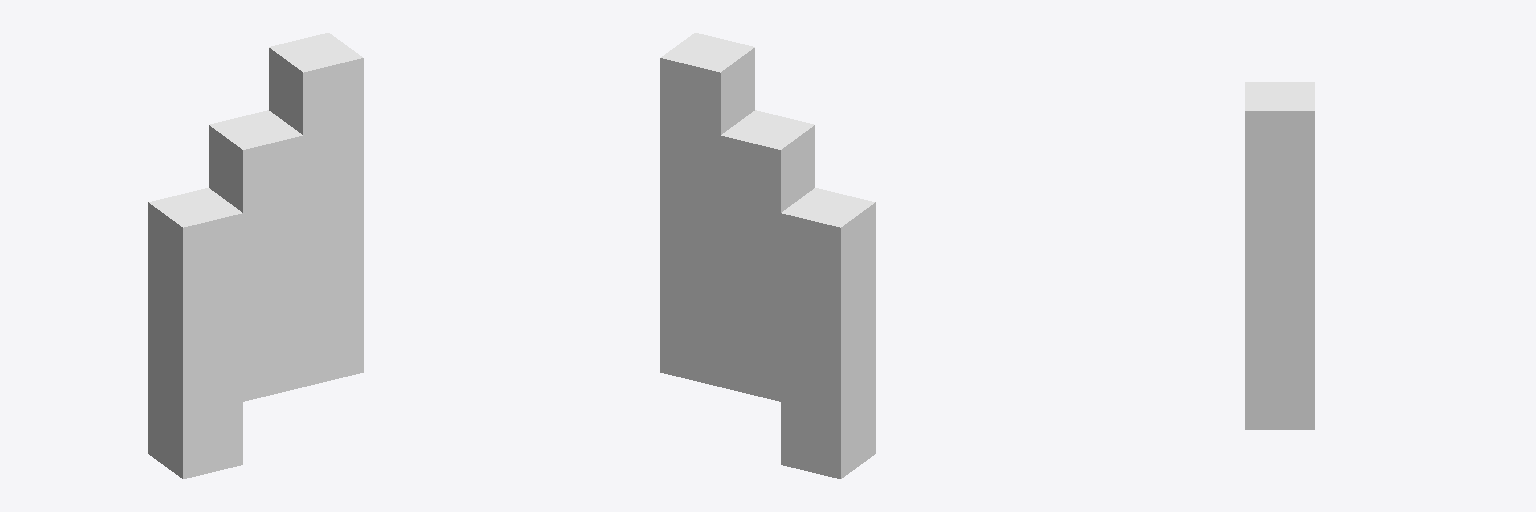
Rendered from YellowHouseParts-25.obj.
3 renders of one model, left to right at view 1: azimuth 30°, elevation 25°; view 2: azimuth 150°, elevation 25°; view 3: azimuth 270°, elevation 25°, orthographic.
Parts seen in each view (by area): view 1: object 1; view 2: object 1; view 3: object 1.
Part boxes in pixels (left/top/right/bottom): object 1: left=148, top=33, right=363, bottom=478; object 1: left=660, top=33, right=875, bottom=478; object 1: left=1245, top=82, right=1314, bottom=429.
Bounding box in the file's own units: 0.3 × 0.6 × 0.1.